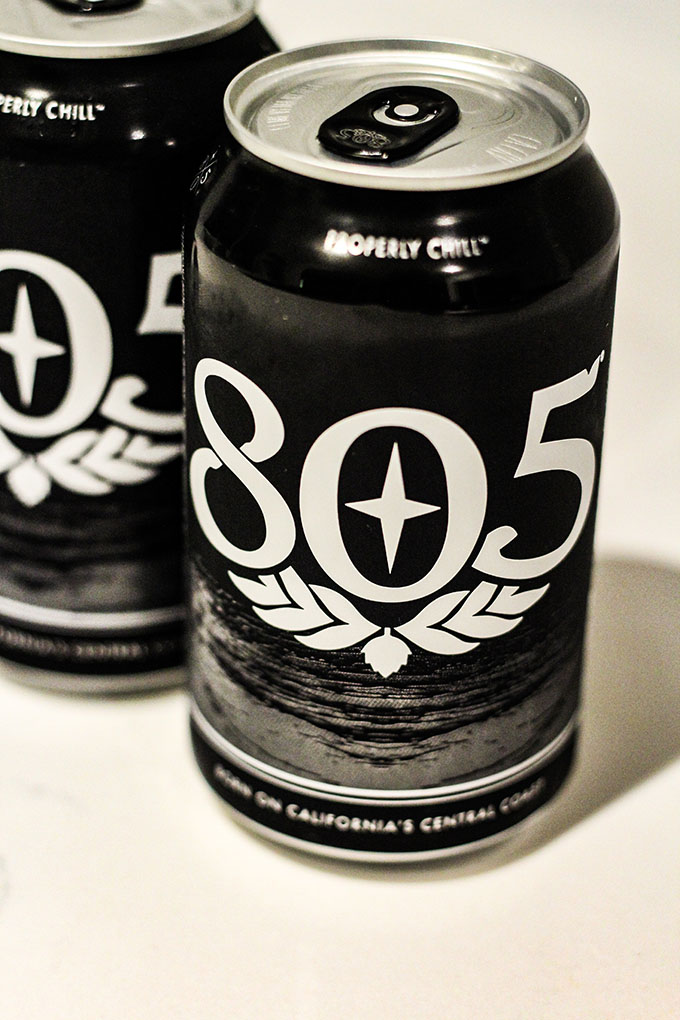beer can: (198, 39, 583, 865), (1, 1, 285, 695)
